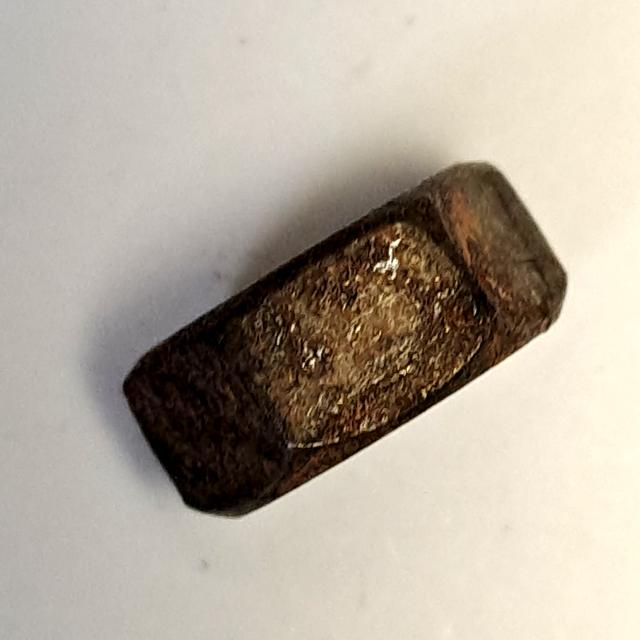Side_Rust: (111, 149, 581, 528)
